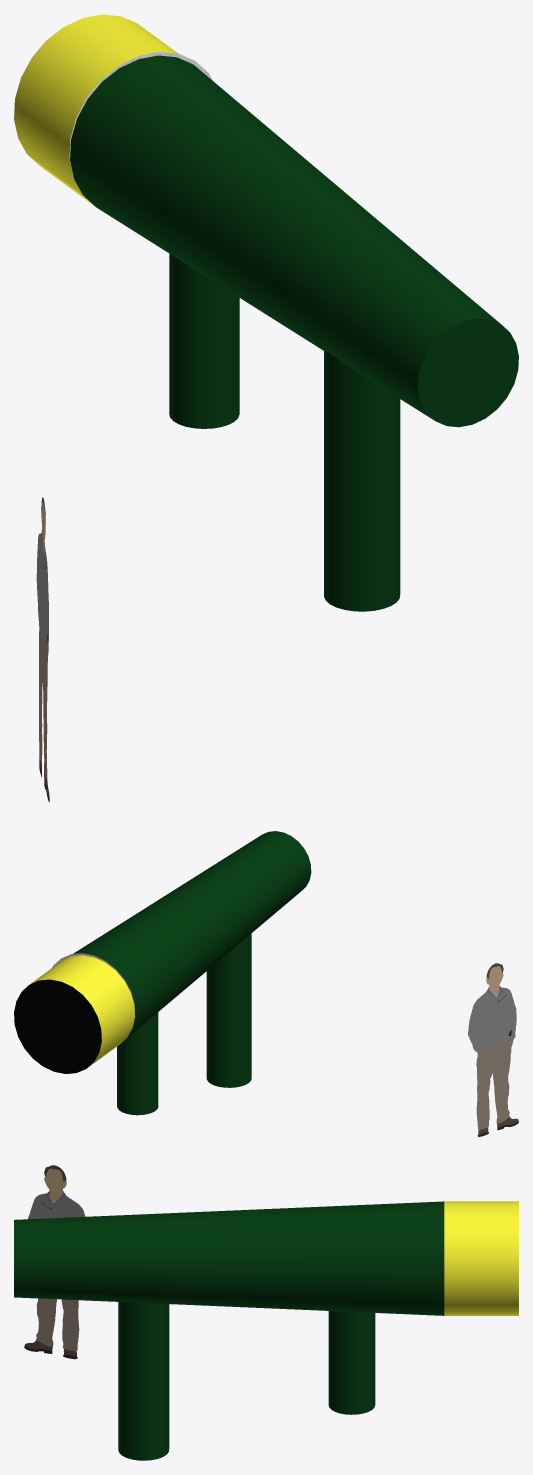
The model's file is Flamethrower.dae.
3 views of the same model, one above another, from view 1: azimuth 30°, elevation 25°; view 2: azimuth 150°, elevation 25°; view 3: azimuth 270°, elevation 25° (orthographic). The views are drawn at different scales.
Parts seen in each view (by area): view 1: SketchUp (×4), Derrick (×2); view 2: SketchUp (×5), Derrick (×2); view 3: SketchUp (×4), Derrick (×3).
Part boxes in pixels (x1,y1,x2,y2): SketchUp (×4): (14, 14, 518, 611); Derrick (×2): (36, 533, 48, 778); SketchUp (×5): (14, 831, 311, 1115); Derrick (×2): (468, 987, 516, 1129); SketchUp (×4): (14, 1201, 518, 1460); Derrick (×3): (28, 1168, 85, 1351).
Size of the model in its own units: 123 by 166 by 101.
